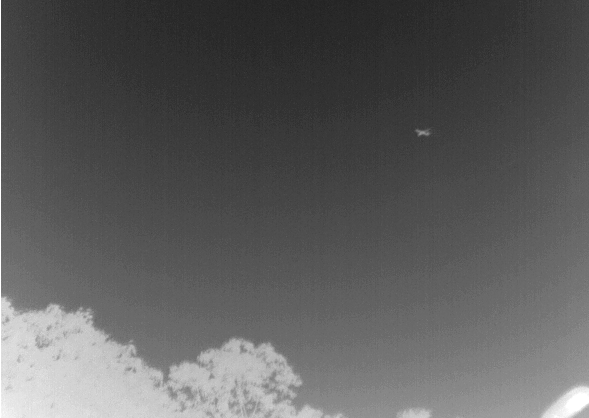dim target: (416, 127, 431, 137)
